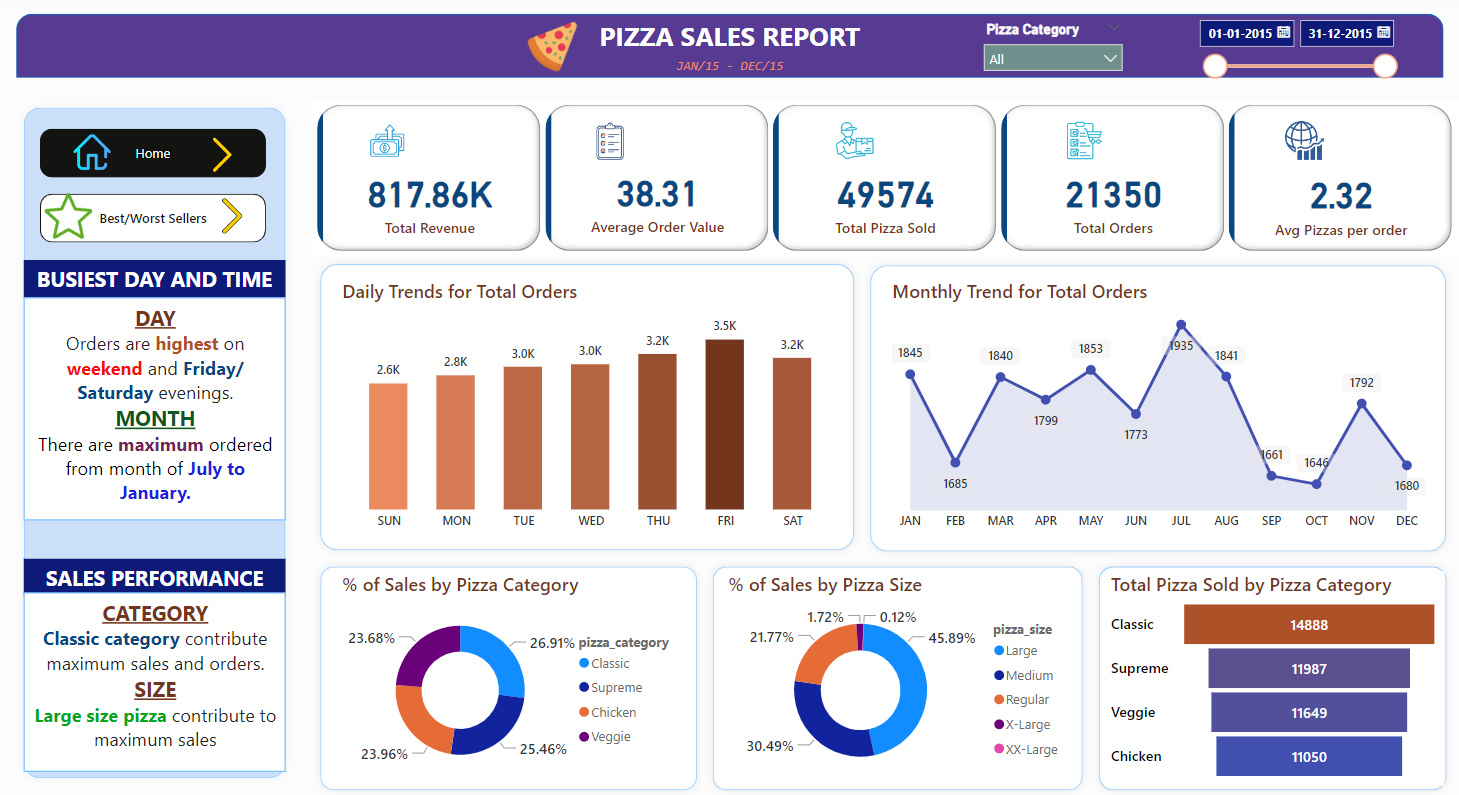

Layout of this report page (visuals, bound fields, positions):
{"tool":"powerbi","page":{"name":"Home","canvas":[1500,820],"ordinal":0},"visuals":[{"type":"cardVisual","fields":{"Data":["pizza_sales.Total Revenue","pizza_sales.Average Order Value","pizza_sales.Total Pizza Sold","pizza_sales.Total Orders","pizza_sales.Avg Pizzas per order"]},"box":[321.4,102.9,1178.6,160],"z":0},{"type":"shape","box":[17.1,14.3,1465.7,65.7],"z":1000},{"type":"textbox","box":[17.1,14.3,1465.7,55.7],"z":2000},{"type":"textbox","box":[17.1,52.9,1465.7,40],"z":3000},{"type":"image","box":[515.7,17.1,102.9,62.9],"z":4000},{"type":"shape","box":[321.4,262.9,564.3,310],"z":5000},{"type":"columnChart","title":"Daily Trends for Total Orders","fields":{"Category":["pizza_sales.Order Day"],"Y":["pizza_sales.Total Orders"]},"box":[347.1,285.7,521.4,267.1],"z":6000},{"type":"shape","box":[885.7,264.3,607.1,310],"z":7000},{"type":"areaChart","title":"Monthly Trend for Total Orders","fields":{"Y":["pizza_sales.Total Orders"],"Category":["pizza_sales.Order Month"]},"box":[911.4,285.7,557.1,267.1],"z":8000},{"type":"shape","box":[321.4,574.3,402.9,245.7],"z":9000},{"type":"shape","box":[724.3,574.3,395.7,245.7],"z":10000},{"type":"shape","box":[1120,574.3,372.9,245.7],"z":11000},{"type":"donutChart","title":"% of Sales by Pizza Category","fields":{"Category":["pizza_sales.pizza_category"],"Y":["pizza_sales.Total Revenue"]},"box":[347.1,587.1,361.4,220],"z":12000},{"type":"shape","box":[17.1,102.9,284.3,704.3],"z":13000},{"type":"donutChart","title":"% of Sales by Pizza Size","fields":{"Category":["pizza_sales.pizza_size"],"Y":["pizza_sales.Total Revenue"]},"box":[742.9,587.1,361.4,220],"z":14000},{"type":"funnel","title":"Total Pizza Sold by Pizza Category","fields":{"Category":["pizza_sales.pizza_category"],"Y":["pizza_sales.Total Pizza Sold"]},"box":[1135.7,587.1,347.1,220],"z":15000},{"type":"textbox","box":[24.3,267.1,268.6,38.6],"z":16000},{"type":"textbox","box":[24.3,305.7,268.6,228.6],"z":17000},{"type":"textbox","box":[24.3,574.3,268.6,38.6],"z":18000},{"type":"textbox","box":[24.3,608.6,268.6,184.3],"z":19000},{"type":"slicer","fields":{"Values":["pizza_sales.pizza_category"]},"box":[1000,17.1,162.9,62.9],"z":20000},{"type":"slicer","fields":{"Values":["pizza_sales.order_date"]},"box":[1220,10,224.3,85.7],"z":21000},{"type":"pageNavigator","box":[41.4,132.9,232.9,50],"z":21001},{"type":"pageNavigator","box":[41.4,198.6,232.9,50],"z":21002},{"type":"image","box":[205.7,135.7,45.7,45.7],"z":21003},{"type":"image","box":[215.7,198.6,45.7,45.7],"z":21004},{"type":"image","box":[70,132.9,48.6,48.6],"z":21005},{"type":"image","box":[41.4,192.9,58.6,58.6],"z":21006}]}

Visuals, with their boxes in screenshot pixels (x1, y1, x2, y2), scaled from the page's 1500x820 canvas onto the 1459x795 screenshot:
cardVisual - pizza_sales.Total Revenue x pizza_sales.Average Order Value: 313 100 1458 255
shape: 17 14 1442 78
textbox: 17 14 1442 68
textbox: 17 51 1442 90
image: 502 17 602 78
shape: 313 255 861 555
"Daily Trends for Total Orders" columnChart: 338 277 845 536
shape: 861 256 1452 557
"Monthly Trend for Total Orders" areaChart: 886 277 1428 536
shape: 313 557 705 794
shape: 705 557 1089 794
shape: 1089 557 1452 794
"% of Sales by Pizza Category" donutChart: 338 569 689 782
shape: 17 100 293 783
"% of Sales by Pizza Size" donutChart: 723 569 1074 782
"Total Pizza Sold by Pizza Category" funnel: 1105 569 1442 782
textbox: 24 259 285 296
textbox: 24 296 285 518
textbox: 24 557 285 594
textbox: 24 590 285 769
slicer - pizza_sales.pizza_category: 973 17 1131 78
slicer - pizza_sales.order_date: 1187 10 1405 93
pageNavigator: 40 129 267 177
pageNavigator: 40 193 267 241
image: 200 132 245 176
image: 210 193 254 237
image: 68 129 115 176
image: 40 187 97 244
